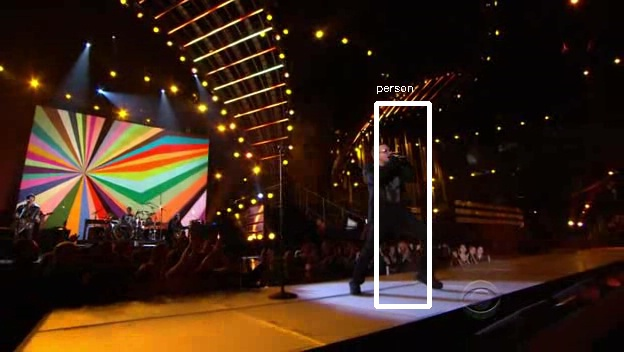person: (360, 139, 420, 247), (357, 139, 417, 247), (363, 139, 423, 247), (360, 136, 420, 244), (360, 142, 420, 250)
target_negative: (151, 260, 452, 283), (528, 47, 609, 99), (218, 163, 469, 169), (442, 57, 591, 64), (565, 280, 595, 312), (536, 257, 544, 271)
